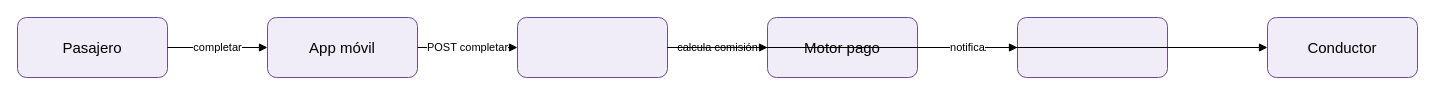
Some shapes in this 1435 by 95 pixel diagram are drawn without their labels. The shapes that lost their labels are listed below. From the top down, each one's centre as x and y in pixels, then its label:
(592,47): API FastAPI
(1092,47): PostgreSQL
